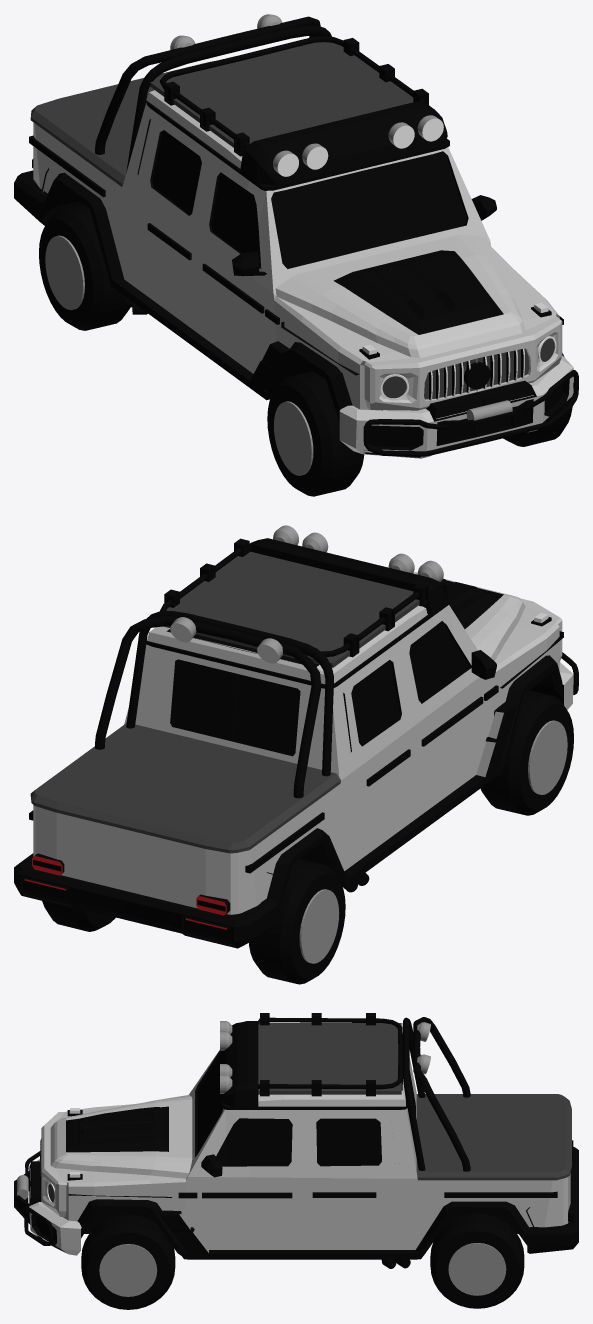
The model's file is Авто 15.fbx.
3 renders of one model, top to bottom at view 1: azimuth 30°, elevation 25°; view 2: azimuth 150°, elevation 25°; view 3: azimuth 270°, elevation 25°, orthographic. The views are drawn at different scales.
Parts seen in each view (by area): view 1: Cube, Cylinder.001; view 2: Cube, Cylinder.001; view 3: Cube, Cylinder.001.
Part boxes in pixels (x1,y1,x2,y2): Cube: (14, 14, 578, 458); Cylinder.001: (39, 205, 572, 496); Cube: (14, 525, 578, 948); Cylinder.001: (42, 690, 573, 984); Cube: (14, 1013, 578, 1268); Cylinder.001: (81, 1213, 524, 1309).
Bounding box in the file's own units: 122 × 132 × 297.
